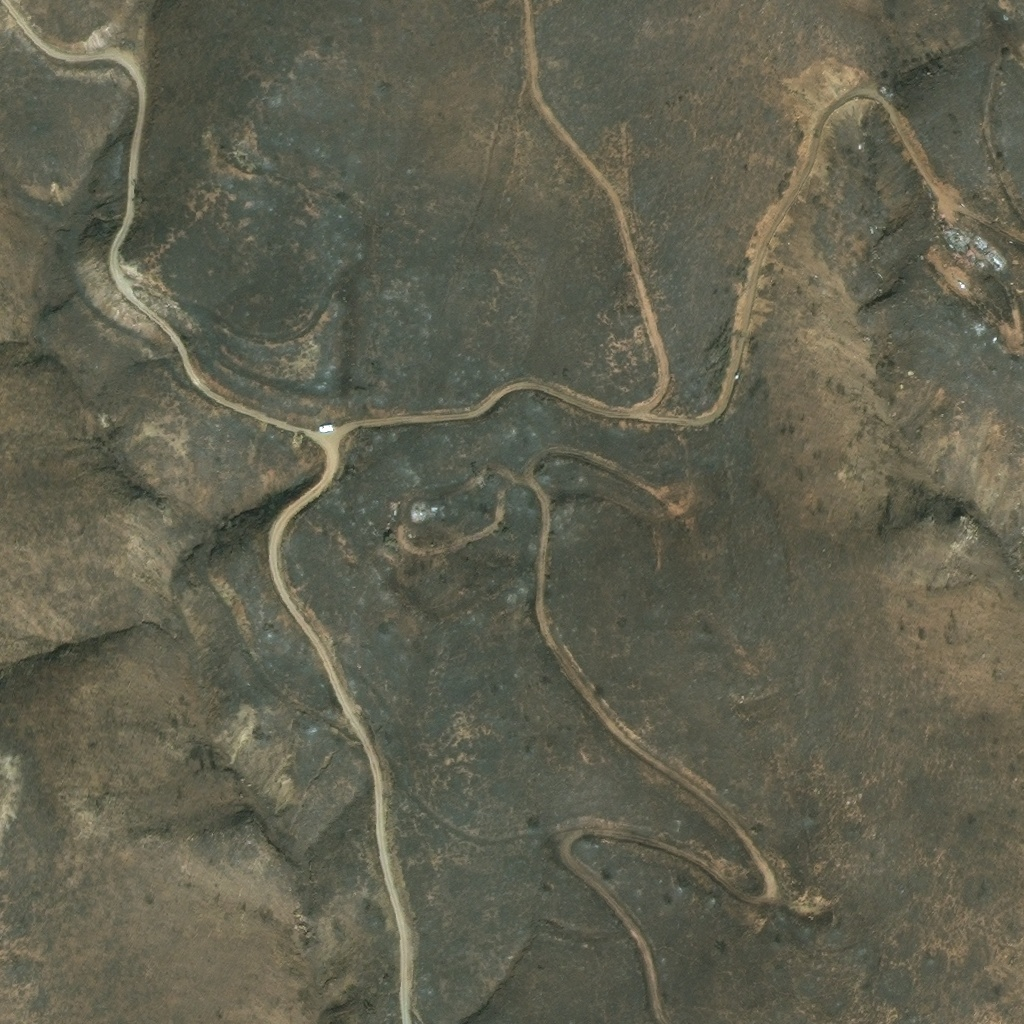3 destroyed: (983, 247, 1004, 269), (971, 231, 991, 251), (944, 229, 960, 251), (952, 226, 967, 245), (151, 0, 161, 11), (1013, 325, 1019, 332)
